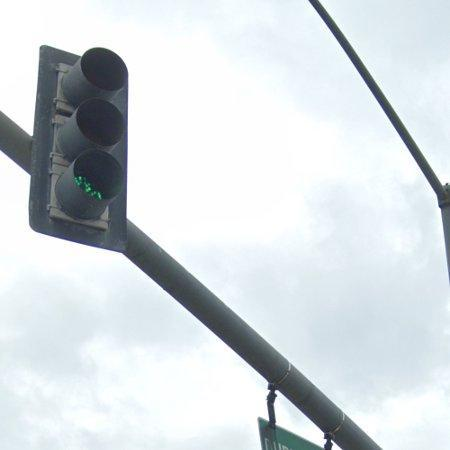traffic lights: (30, 45, 130, 253)
